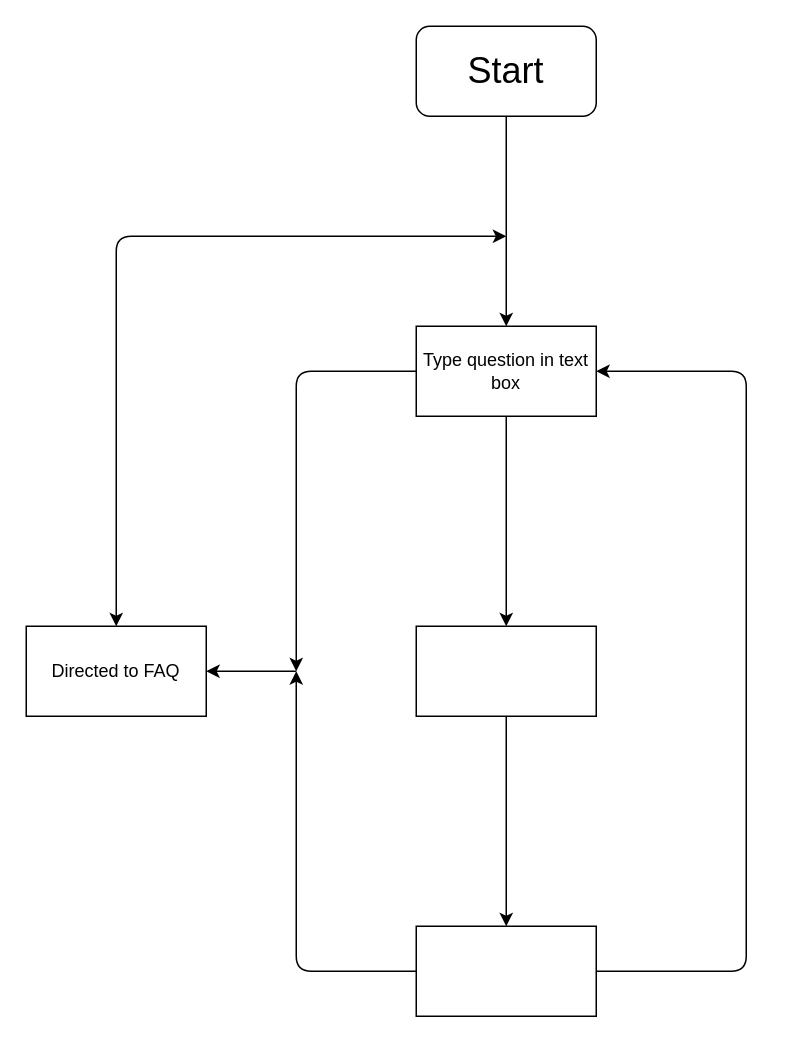
Some shapes in this 785 by 1043 pixel diagram are drawn without their labels. The shapes that lost their labels are listed below. From the top down, each one's centre as x and y in pixels, then its label:
At [505,670]: "Submit Question".
At [505,970]: "Chatbot responds".
